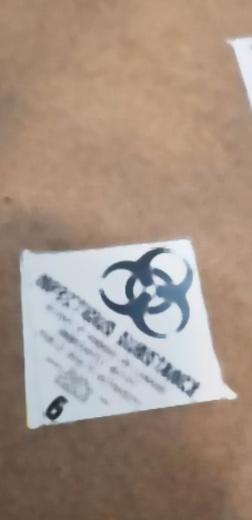infectious-substance: (23, 237, 228, 424)
